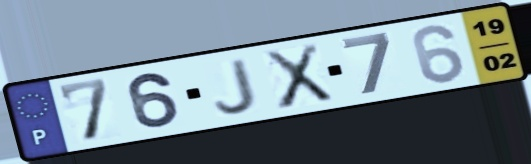6: (408, 22, 468, 86), (125, 71, 183, 131)
7: (337, 29, 397, 98), (54, 75, 113, 145)
J: (212, 55, 260, 116)
X: (259, 40, 336, 113)
